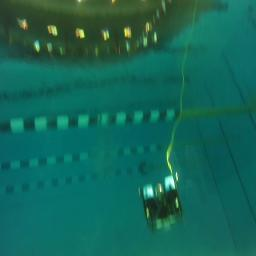front: (137, 172, 184, 232)
